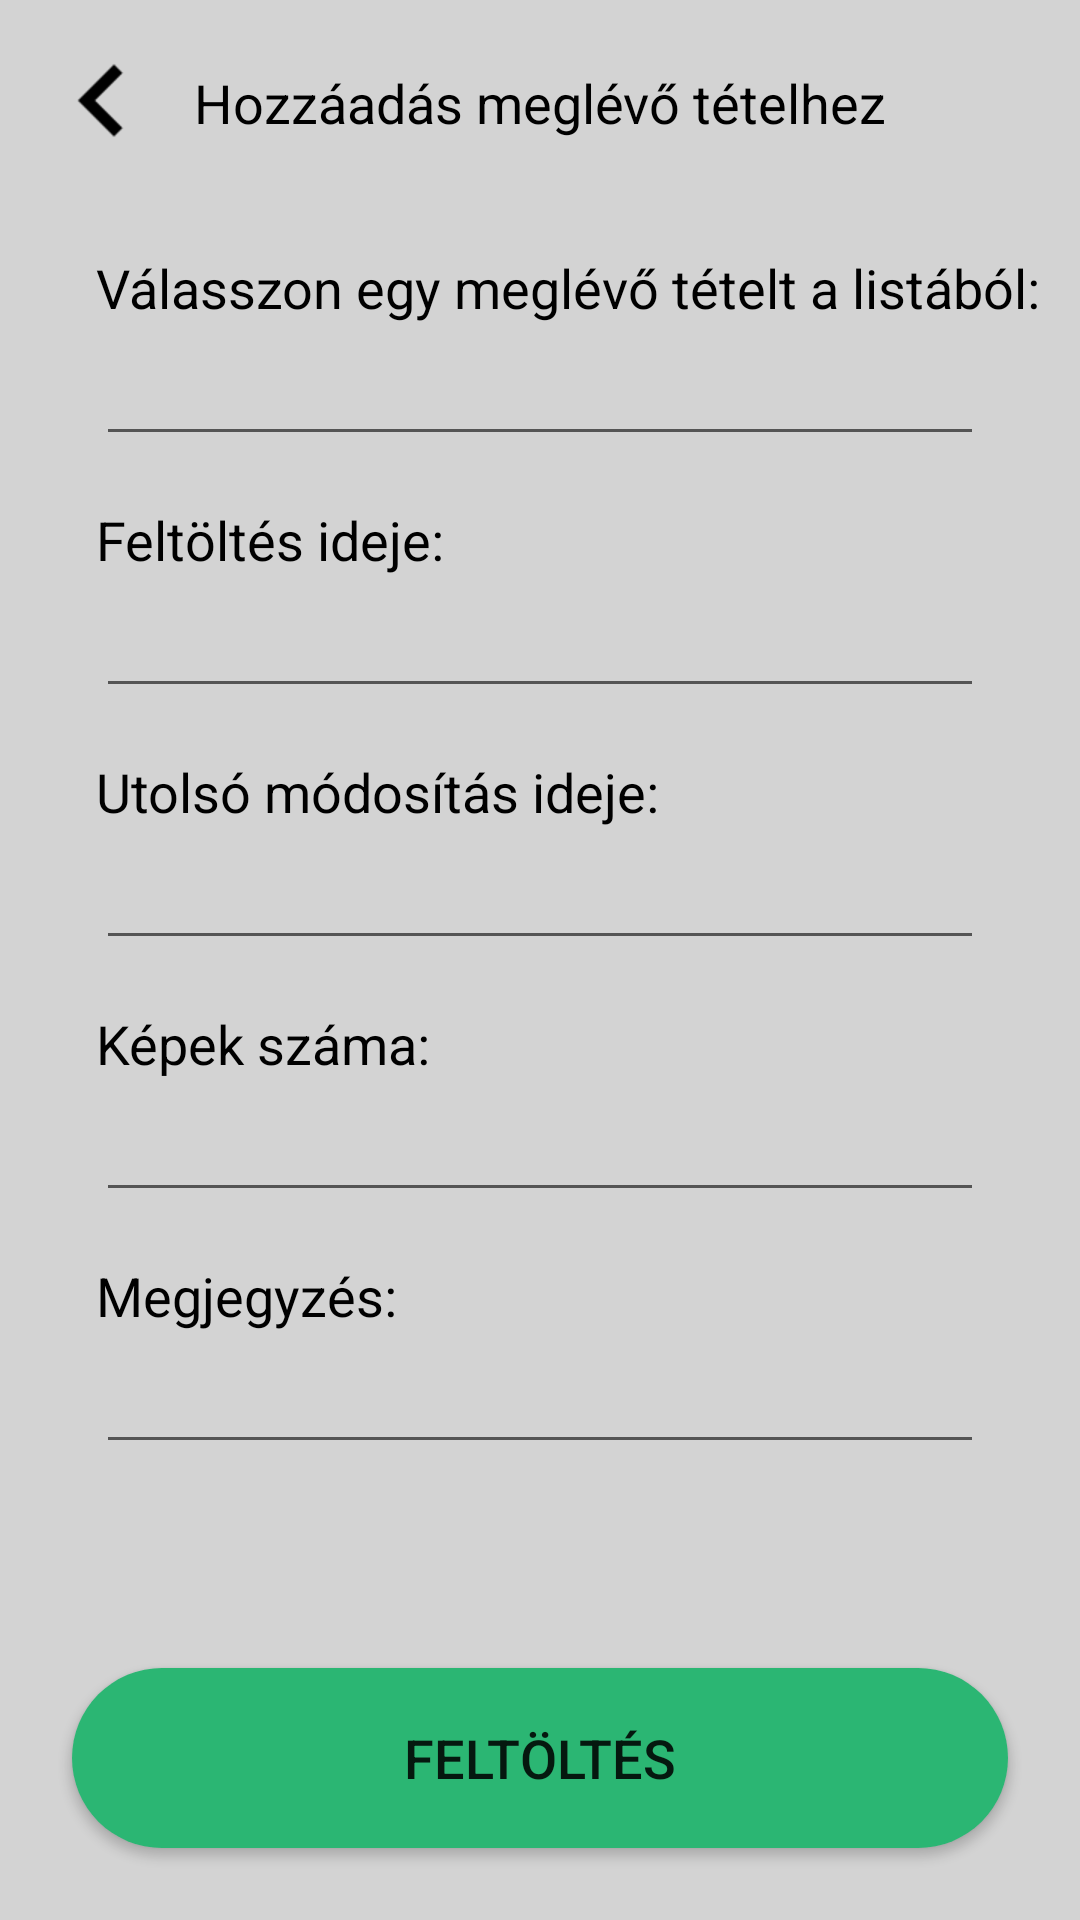

Named icons in this screenshot (1080*1920) and their centers, (x=x, y=y):
back: (x=100, y=100)
